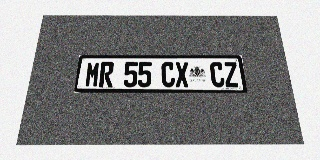5: (123, 62, 138, 87), (138, 62, 152, 87)
C: (210, 62, 225, 87), (161, 62, 175, 87)
M: (84, 62, 101, 87)
R: (99, 62, 114, 87)
X: (175, 62, 189, 87)
Z: (223, 62, 239, 87)
